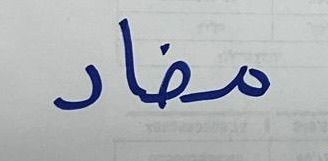alef: (111, 11, 140, 117)
dal: (44, 51, 107, 119)
khah: (142, 40, 204, 115)
meem: (207, 50, 277, 112)
